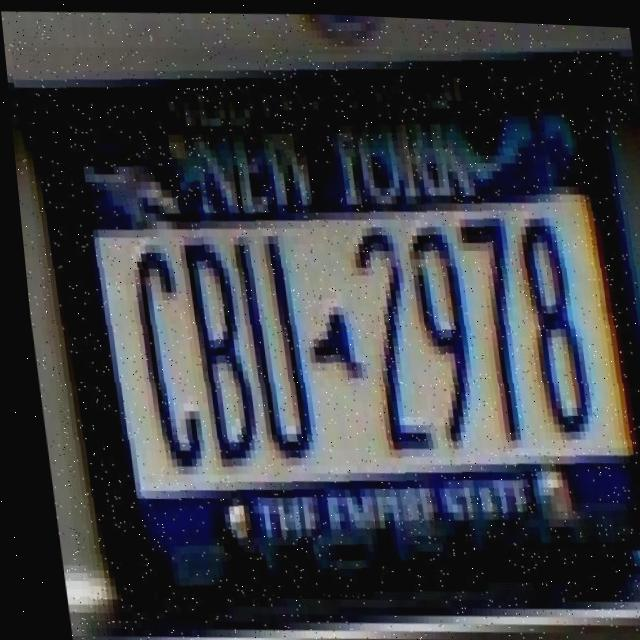LicensePlate: (8, 24, 640, 617)
